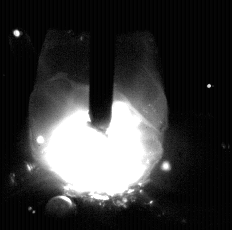arame: (89, 0, 114, 136)
poca: (29, 0, 165, 230)
